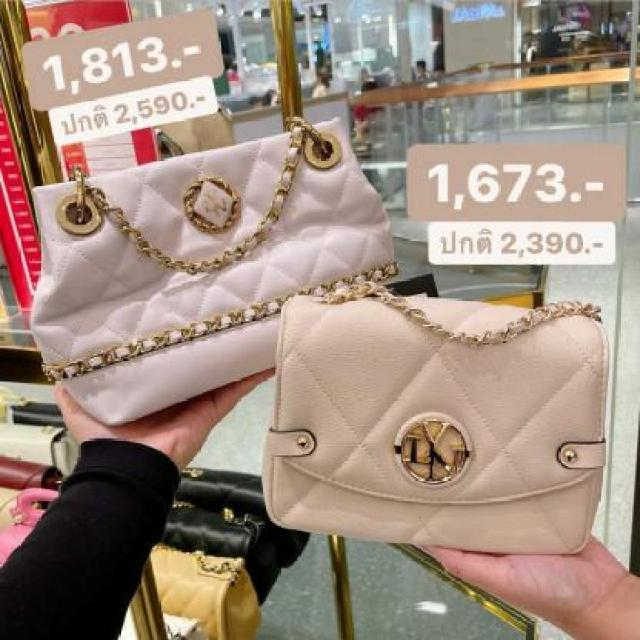Bag: (23, 88, 522, 483), (243, 264, 640, 570)
